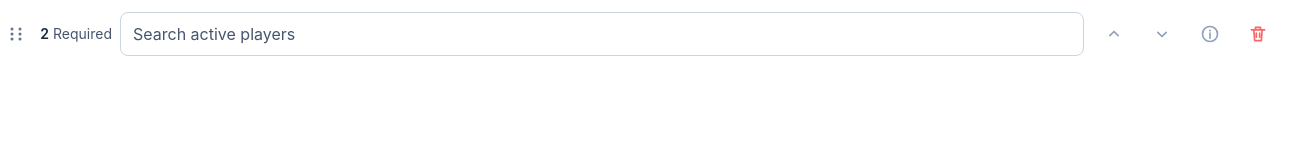
Test case: TeamRosterRow › excludes players already selected in another roster row
Focus the dropdown named "Player 2 (required)" at (602,34), box [120,12,1084,56]
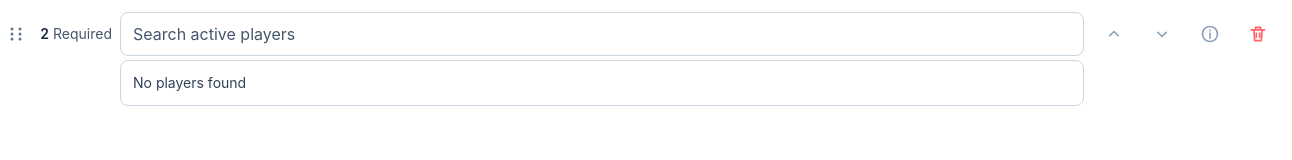
Result: the text "No players found" is shown at [133,74,246,91]
